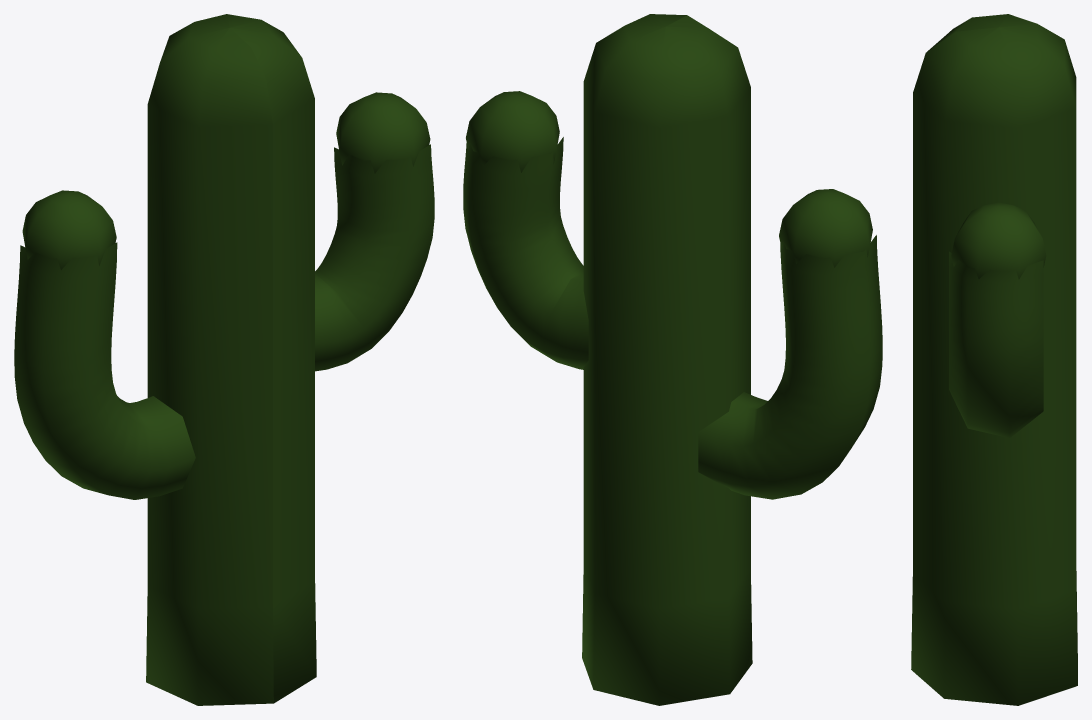
Rendered from cactus_far.glb.
3 renders of one model, left to right at view 1: azimuth 30°, elevation 25°; view 2: azimuth 150°, elevation 25°; view 3: azimuth 270°, elevation 25°, orthographic.
Visible parts, largest first — view 1: cactus_far; view 2: cactus_far; view 3: cactus_far.
Part boxes in pixels (x1,y1,x2,y2): cactus_far: [14, 14, 434, 705]; cactus_far: [463, 14, 882, 705]; cactus_far: [911, 14, 1077, 705].
Bounding box in the file's own units: 1.99 × 3 × 0.7053.
